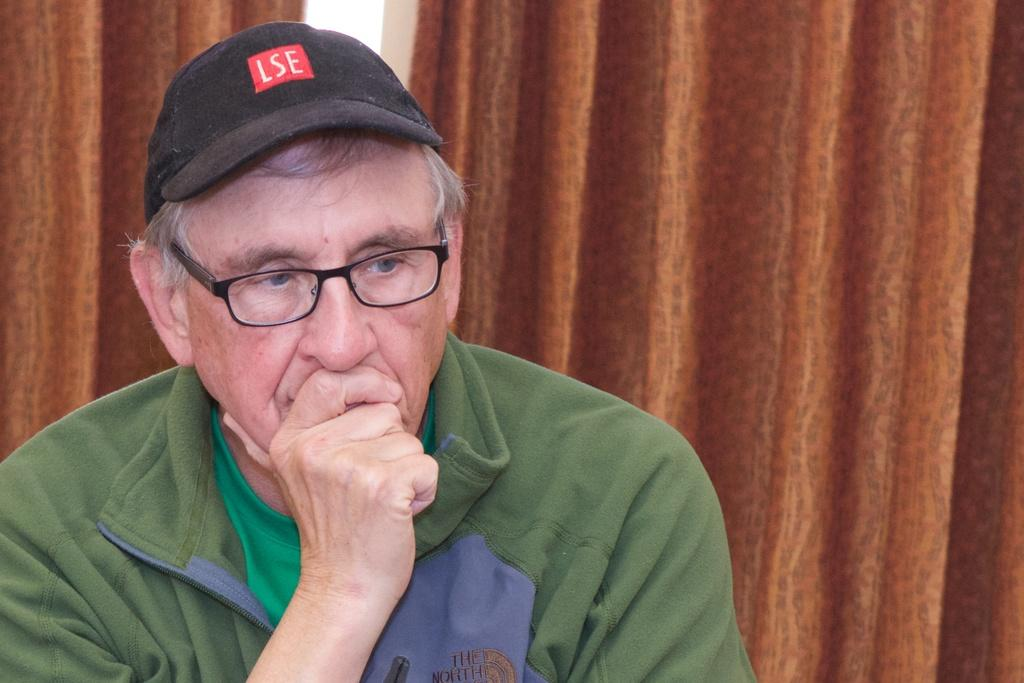Hat: (142, 16, 443, 225)
